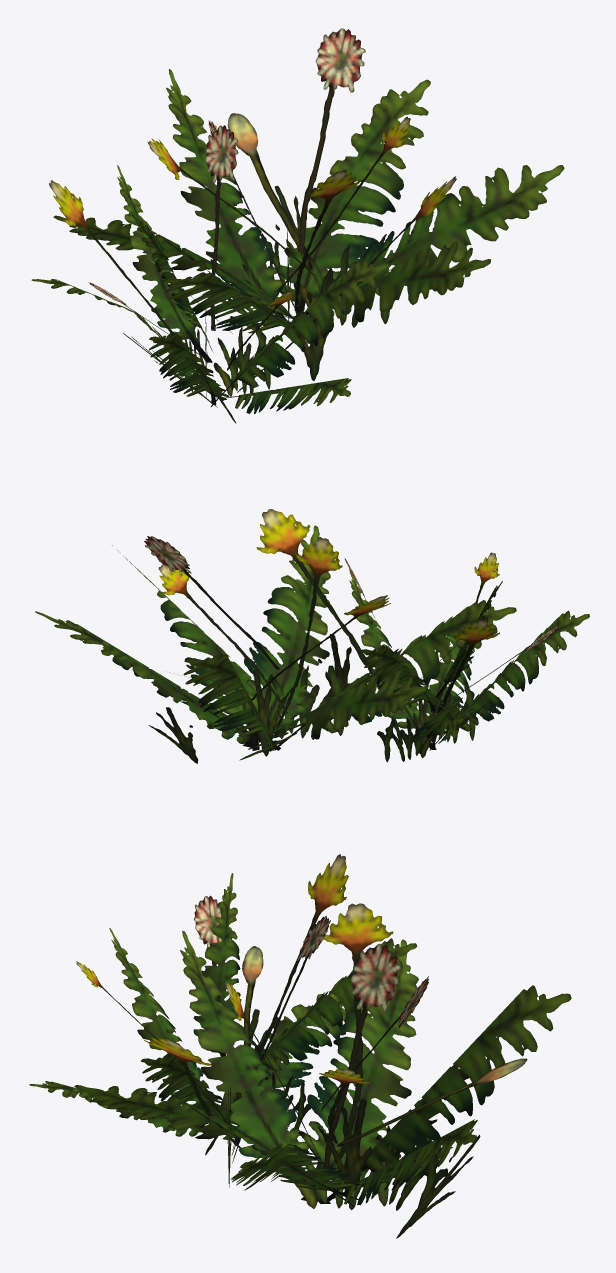
The model's file is PRP_AKAHomePlants.FBX.
3 views of the same model, one above another, from view 1: azimuth 30°, elevation 25°; view 2: azimuth 150°, elevation 25°; view 3: azimuth 270°, elevation 25° (orthographic). The views are drawn at different scales.
Parts seen in each view (by area): view 1: PRP_AKAHomePlants; view 2: PRP_AKAHomePlants; view 3: PRP_AKAHomePlants.
Boxes of the visible parts, box(x1,y1,x2,y2) form: PRP_AKAHomePlants: box(31, 28, 564, 423); PRP_AKAHomePlants: box(35, 509, 589, 763); PRP_AKAHomePlants: box(29, 854, 571, 1238).
Size of the model in its own units: 256 by 135 by 233.
